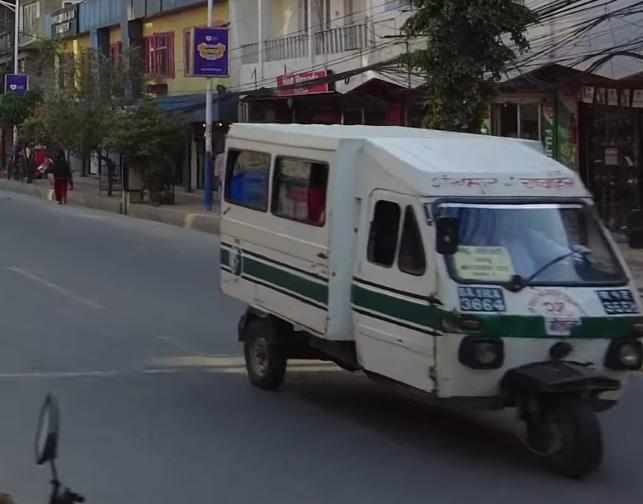tempo: (220, 116, 643, 479)
